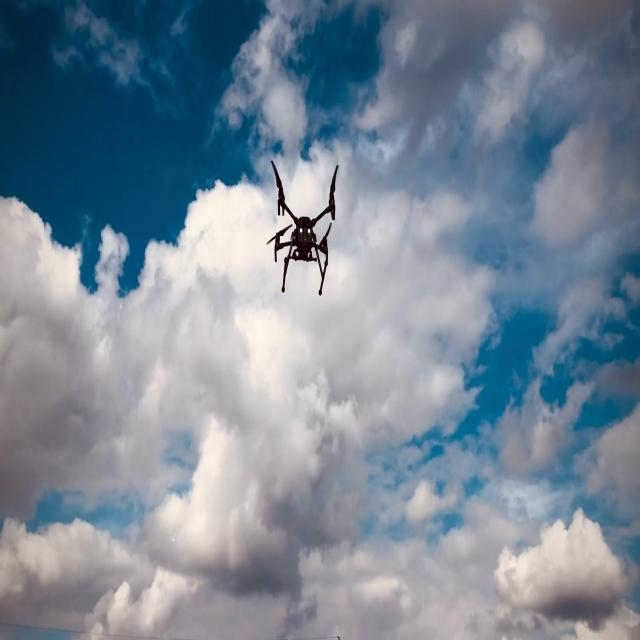drone: (266, 159, 339, 296)
